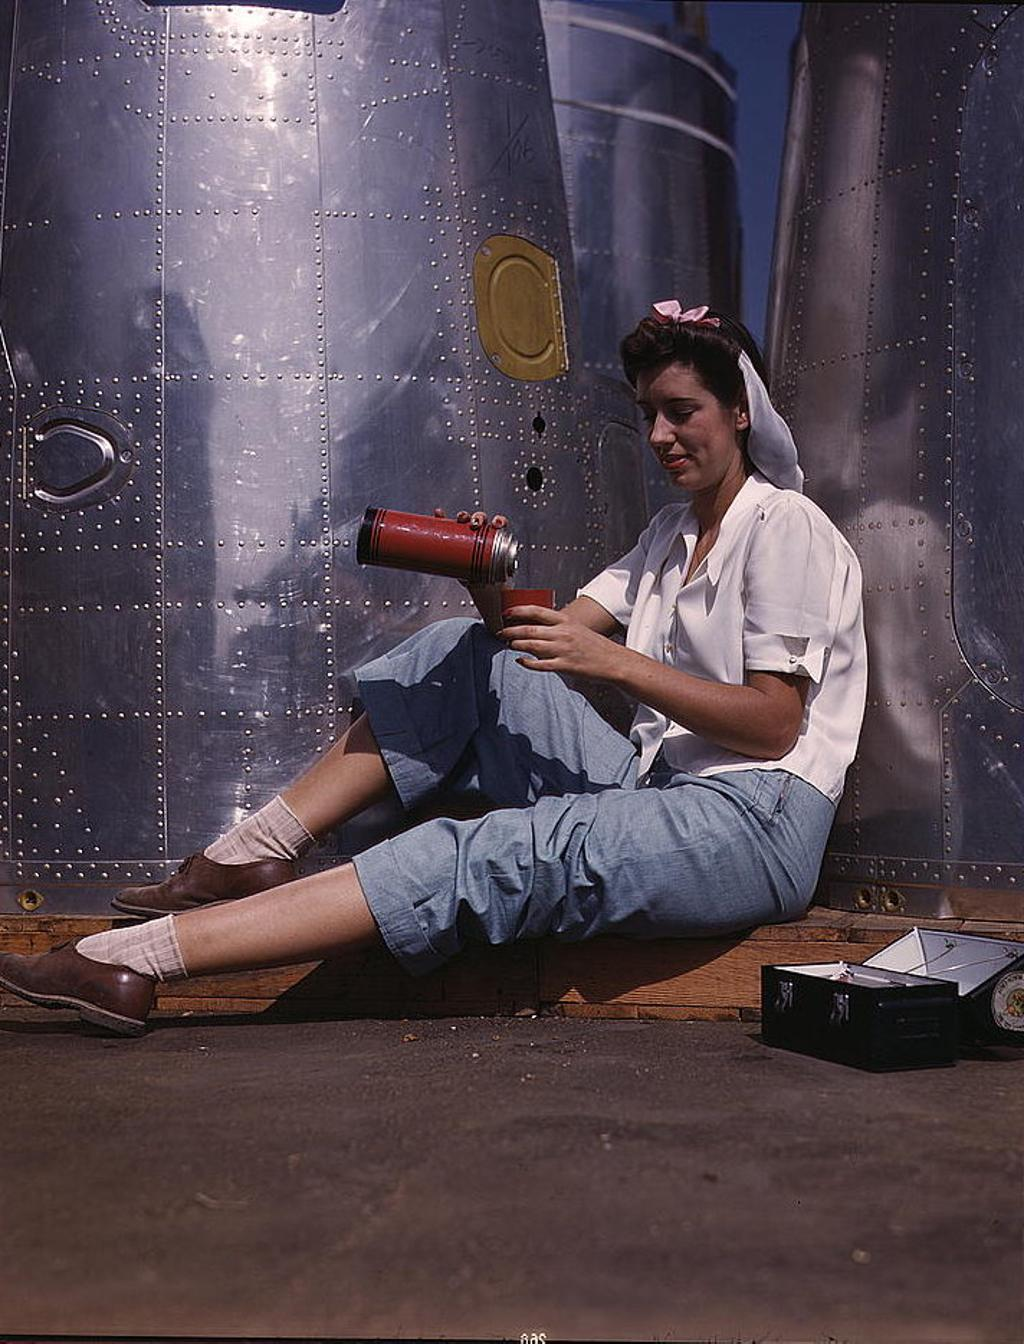face: (643, 347, 727, 486)
